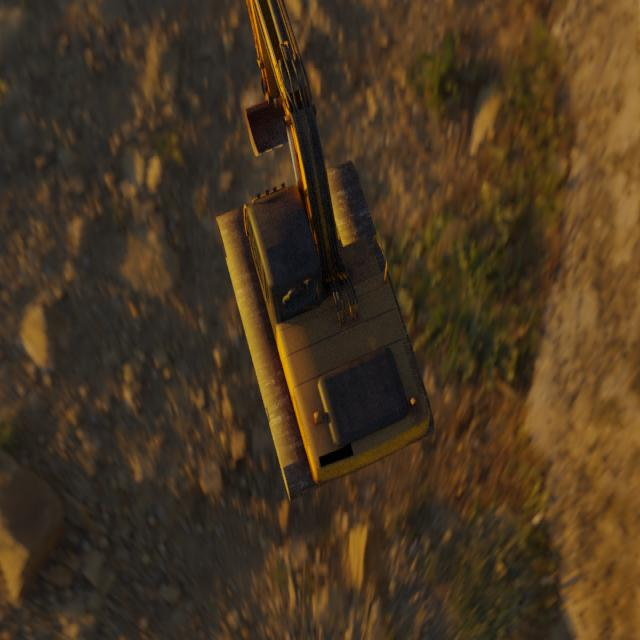excavator: (215, 0, 434, 503)
